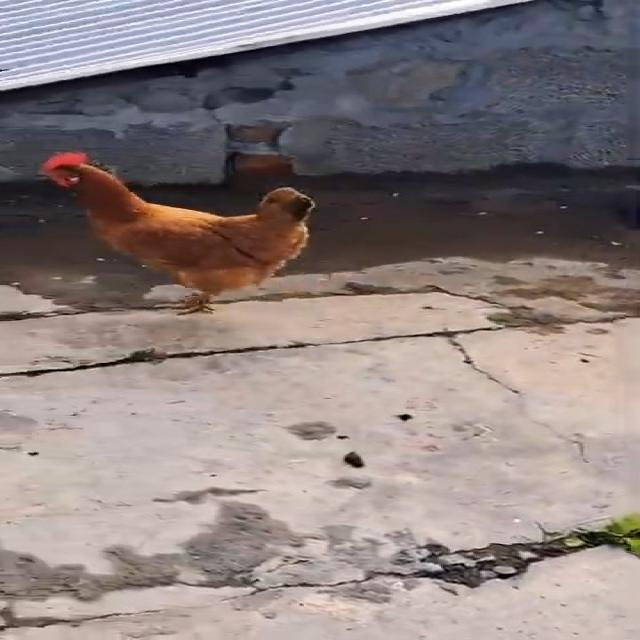walking: (28, 140, 338, 318)
